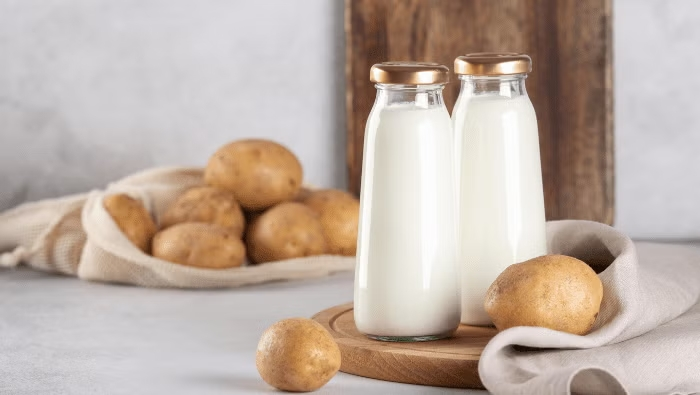milk: (358, 50, 466, 348), (454, 40, 545, 335)
potato: (91, 177, 248, 281), (484, 234, 626, 346), (257, 169, 361, 284), (192, 122, 314, 210), (244, 304, 359, 395)
